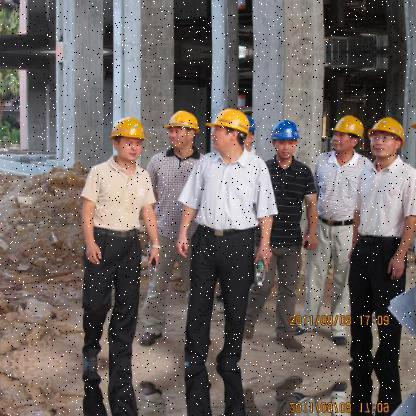Helmet: (199, 105, 255, 154), (363, 111, 407, 166), (108, 118, 152, 170), (162, 110, 203, 156), (268, 115, 303, 165), (322, 115, 362, 157)
